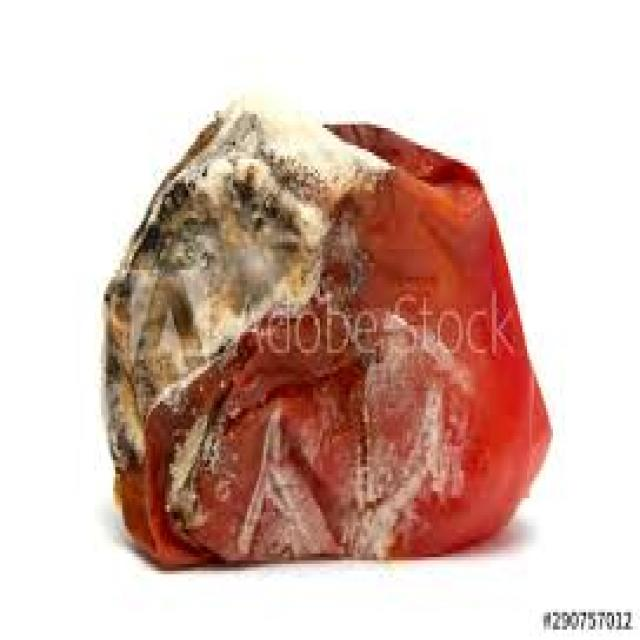organic waste: (99, 100, 548, 568)
